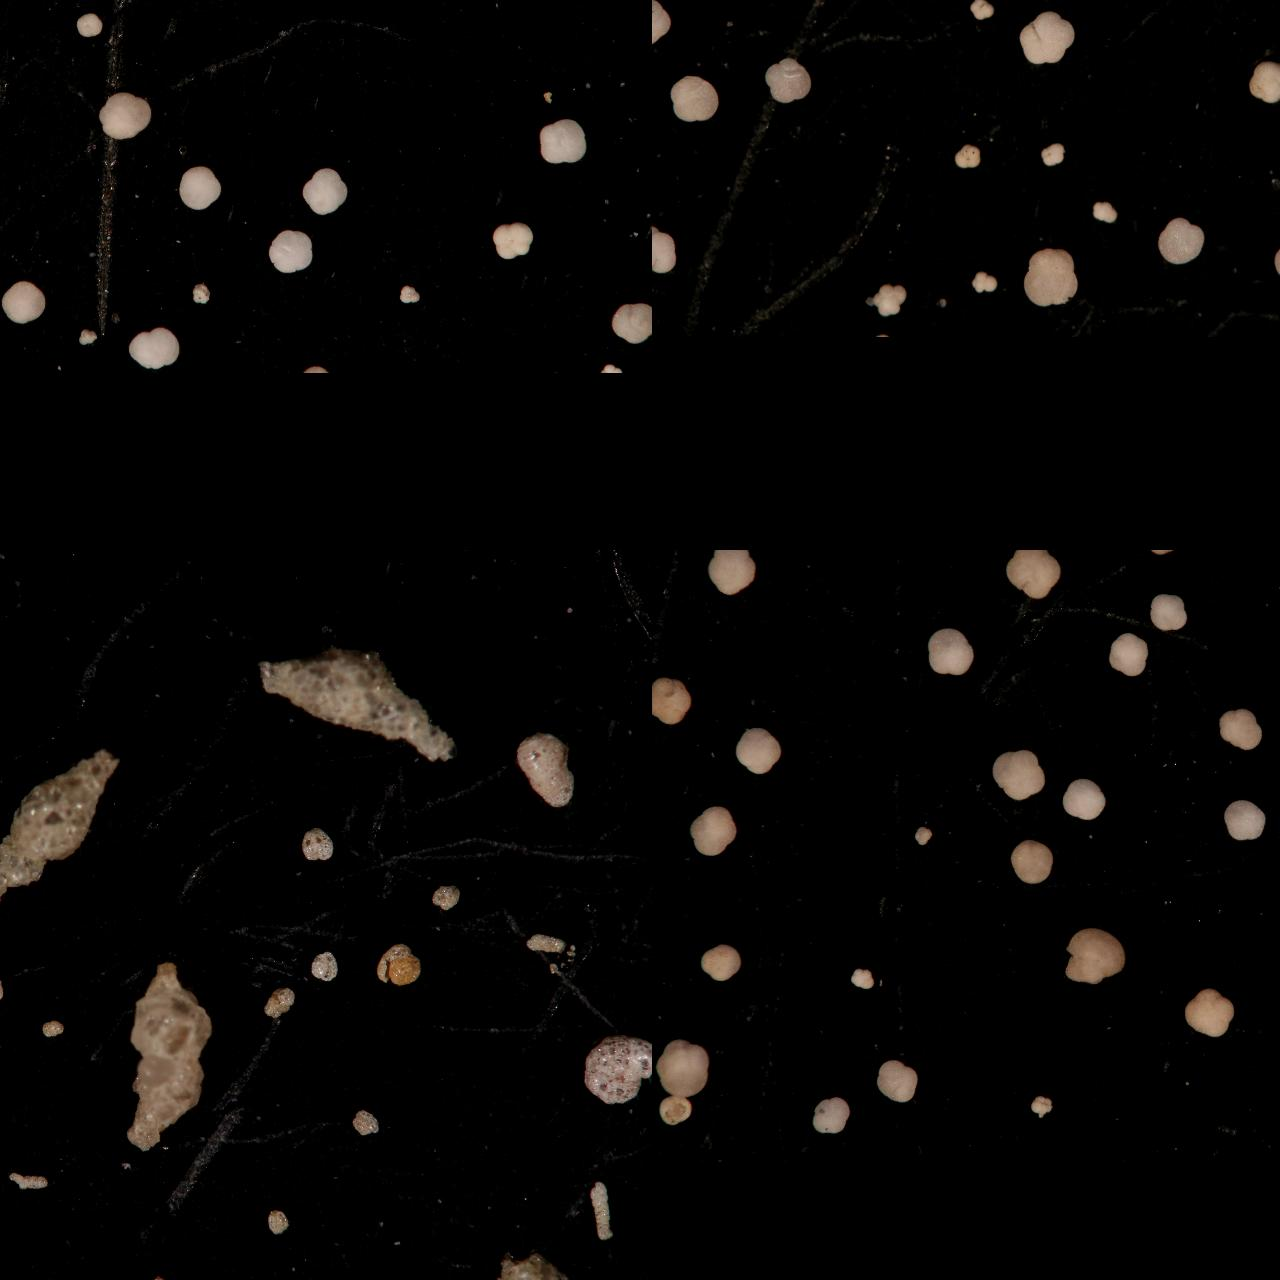Sediment: (0, 272, 12, 293)
agglutinated: (259, 651, 455, 761), (0, 749, 120, 907), (125, 964, 212, 1152), (0, 1169, 57, 1280), (584, 1035, 652, 1104), (515, 733, 576, 808), (0, 905, 30, 1021), (497, 1253, 610, 1280), (377, 946, 421, 987), (587, 1183, 613, 1241), (300, 828, 334, 860), (0, 703, 21, 743), (266, 988, 294, 1017), (429, 886, 461, 912), (0, 986, 22, 1021), (0, 1092, 20, 1131), (312, 954, 339, 982), (350, 1111, 380, 1137), (525, 934, 565, 952), (7, 1172, 47, 1190), (0, 900, 16, 940), (266, 1211, 288, 1235), (0, 940, 18, 971), (0, 1254, 20, 1280), (0, 738, 18, 765), (39, 1021, 64, 1037), (0, 1108, 11, 1148), (0, 1104, 15, 1131), (0, 831, 13, 862), (0, 974, 12, 1003), (0, 823, 13, 845), (0, 1158, 12, 1176)
planktic: (1062, 927, 1126, 987), (1021, 246, 1080, 308), (652, 1039, 710, 1097), (1017, 9, 1076, 67), (95, 91, 154, 143), (1005, 550, 1063, 601), (1182, 987, 1235, 1040), (990, 750, 1046, 802), (687, 805, 737, 857), (1155, 217, 1205, 267), (924, 627, 974, 678), (300, 169, 349, 219), (704, 550, 757, 597), (669, 75, 719, 124), (762, 57, 812, 105), (734, 726, 782, 776), (1007, 838, 1055, 887), (125, 327, 181, 369), (538, 117, 586, 164), (266, 229, 314, 275), (1216, 707, 1264, 751), (0, 281, 46, 327), (1221, 797, 1267, 843), (177, 165, 222, 212), (874, 1058, 920, 1103), (652, 676, 692, 727), (1061, 778, 1107, 822), (697, 940, 742, 983), (1107, 632, 1148, 678), (375, 0, 433, 32), (986, 0, 1047, 29), (678, 0, 736, 30), (489, 222, 533, 261), (0, 149, 29, 209), (610, 302, 652, 343), (808, 1097, 850, 1137), (835, 550, 892, 578), (1033, 550, 1092, 577), (1149, 592, 1187, 632), (1245, 61, 1280, 104), (1221, 550, 1280, 576), (26, 0, 80, 27), (864, 0, 919, 26), (652, 225, 680, 275), (874, 0, 930, 25), (501, 0, 558, 23), (652, 74, 678, 124), (1047, 0, 1102, 23), (0, 18, 25, 69), (1096, 550, 1146, 574), (70, 0, 123, 23), (871, 284, 907, 318), (0, 132, 26, 178), (652, 0, 676, 46), (558, 0, 605, 23), (464, 0, 510, 23), (102, 0, 148, 23), (652, 0, 685, 32), (656, 1098, 692, 1128), (605, 0, 651, 22), (1136, 550, 1182, 572), (1001, 550, 1051, 570), (652, 298, 676, 336), (692, 0, 742, 19), (109, 0, 154, 21), (0, 94, 21, 138), (0, 0, 30, 30), (652, 132, 673, 176), (520, 0, 565, 20), (382, 0, 427, 20), (951, 143, 983, 170), (1247, 0, 1280, 23), (1090, 200, 1119, 225), (968, 272, 998, 297), (74, 14, 104, 38), (958, 0, 998, 18), (0, 0, 27, 25), (1039, 143, 1065, 168), (847, 967, 874, 992), (0, 222, 19, 256), (908, 824, 935, 847), (227, 0, 263, 18), (1159, 0, 1194, 18), (1028, 1096, 1055, 1118), (462, 0, 496, 18), (968, 0, 996, 21), (0, 0, 25, 23), (0, 0, 23, 23), (652, 0, 675, 23), (652, 209, 670, 237), (189, 282, 211, 306), (397, 285, 422, 306), (75, 327, 100, 348), (1166, 0, 1199, 15), (0, 0, 21, 22), (0, 47, 14, 79), (1167, 0, 1199, 14), (0, 263, 15, 291), (652, 282, 668, 308), (0, 0, 19, 21), (652, 580, 665, 608), (1206, 0, 1234, 12), (552, 0, 576, 12), (597, 365, 625, 374), (0, 0, 19, 12), (215, 0, 233, 9), (0, 0, 13, 11), (0, 0, 11, 12)
